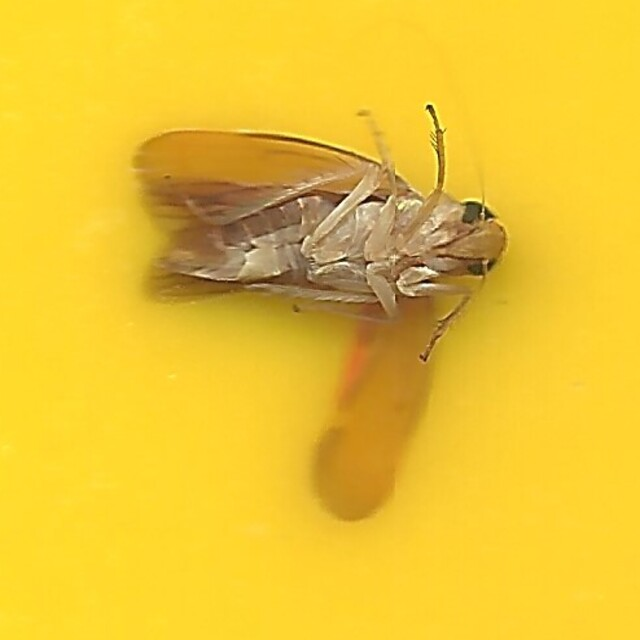Hemiptera: (130, 122, 510, 518)
